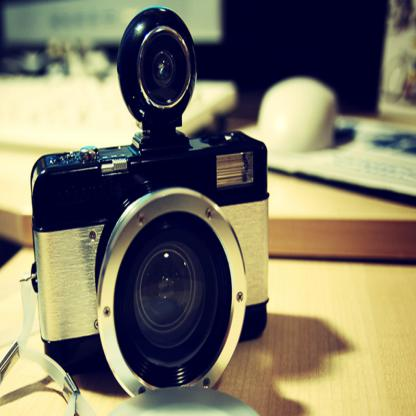Camera: (31, 9, 270, 399)
